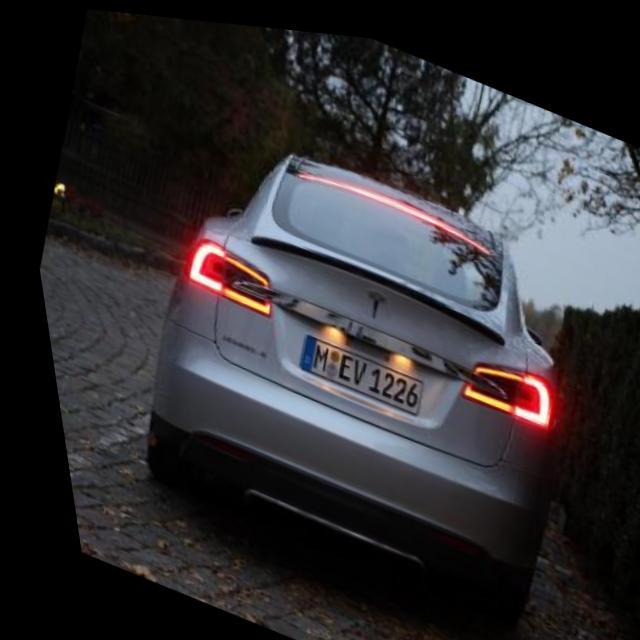license_plate: (285, 328, 417, 410)
